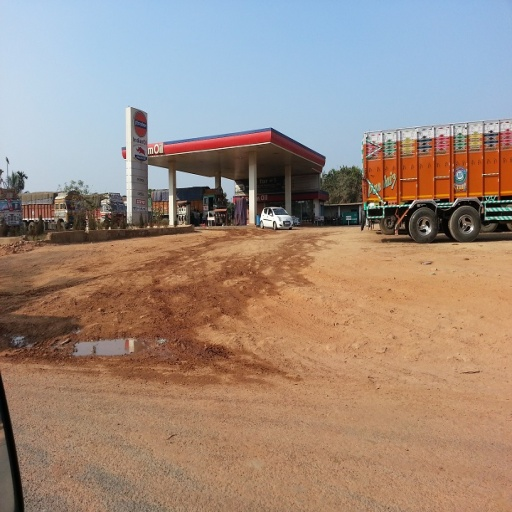roof: (121, 131, 328, 176)
